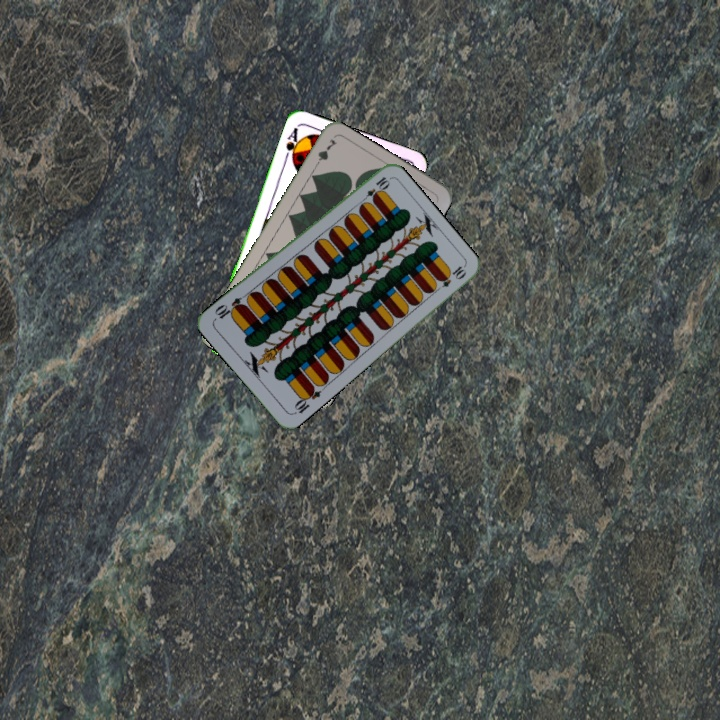E10: (289, 382, 323, 417), (357, 173, 392, 206)
G7: (310, 134, 339, 171)
SA: (280, 124, 304, 164)
